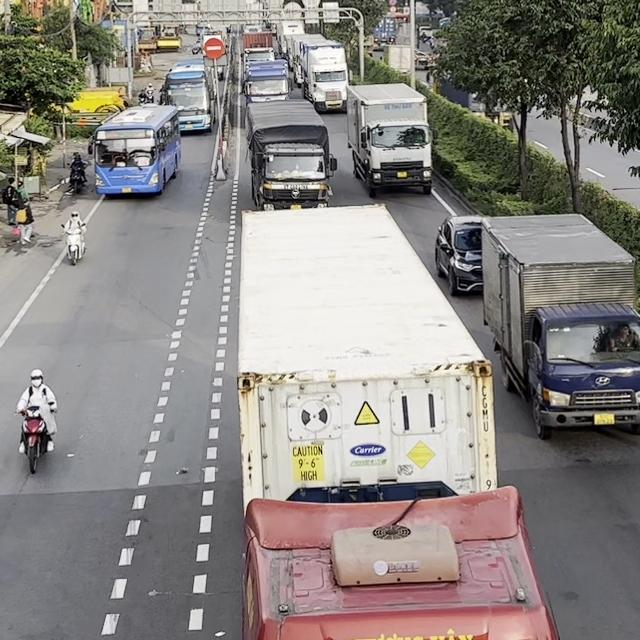bus: (88, 103, 181, 197), (158, 65, 213, 134)
car: (434, 214, 484, 296)
motorcycle: (14, 402, 57, 474), (60, 222, 87, 265), (66, 161, 88, 193)
truck: (232, 201, 561, 639), (480, 212, 639, 440), (245, 99, 337, 210), (345, 82, 433, 197), (296, 38, 349, 112), (243, 59, 292, 106)
